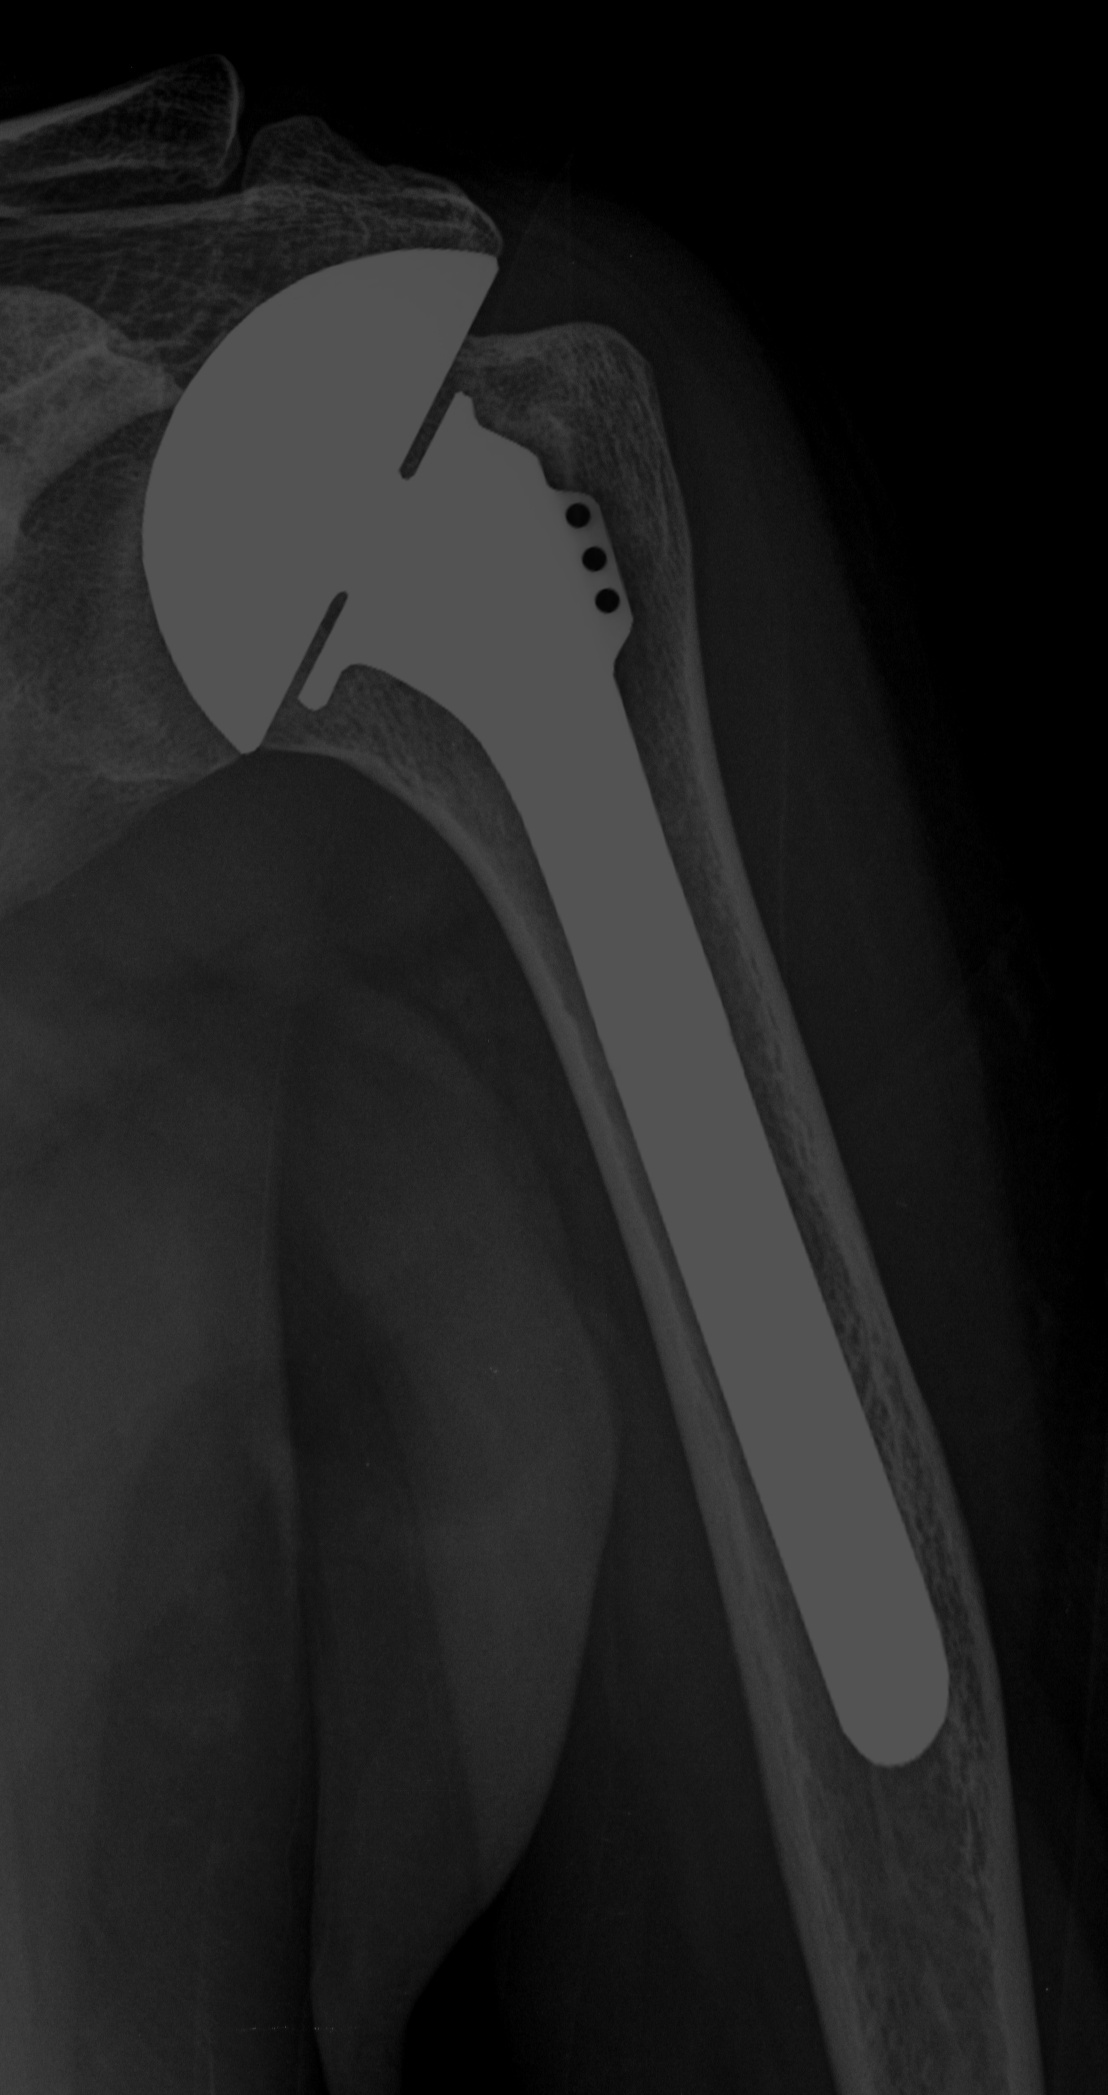Shoulder-Olympia-Wright: (122, 227, 972, 1779)
